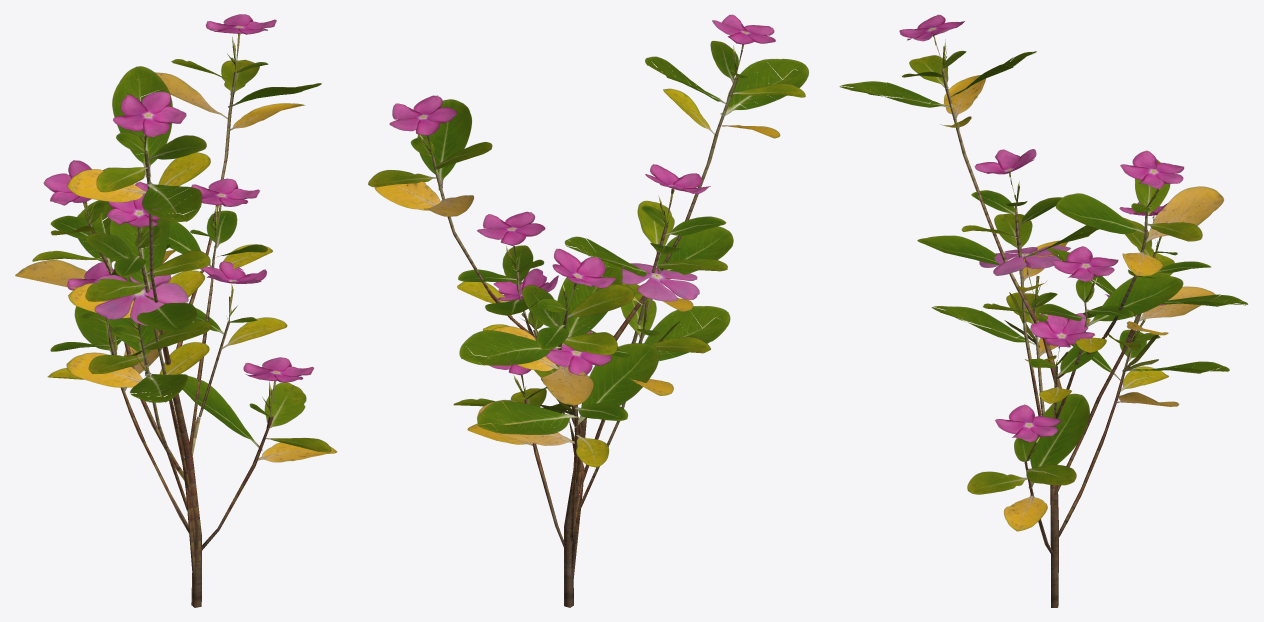
Rendered from periwinkle.glb.
The picture shows the model from 3 angles, left to right: view 1: azimuth 30°, elevation 25°; view 2: azimuth 150°, elevation 25°; view 3: azimuth 270°, elevation 25°; orthographic projection. The views are drawn at different scales.
Visible parts, largest first — view 1: periwinkle_plant_04_LOD0, periwinkle_plant_05_LOD0, periwinkle_plant_06_LOD0; view 2: periwinkle_plant_04_LOD0, periwinkle_plant_05_LOD0, periwinkle_plant_06_LOD0; view 3: periwinkle_plant_04_LOD0, periwinkle_plant_05_LOD0, periwinkle_plant_06_LOD0.
Boxes of the visible parts, box(x1,y1,x2,y2) form: periwinkle_plant_04_LOD0: box(15, 14, 336, 607); periwinkle_plant_05_LOD0: box(47, 178, 272, 606); periwinkle_plant_06_LOD0: box(66, 261, 287, 587); periwinkle_plant_04_LOD0: box(368, 14, 808, 607); periwinkle_plant_05_LOD0: box(457, 164, 733, 546); periwinkle_plant_06_LOD0: box(483, 263, 730, 587); periwinkle_plant_04_LOD0: box(839, 14, 1247, 607); periwinkle_plant_05_LOD0: box(917, 149, 1229, 537); periwinkle_plant_06_LOD0: box(931, 245, 1101, 426).
Bounding box in the file's own units: 0.1558 × 0.265 × 0.1842.
1 material, 1 textured.
